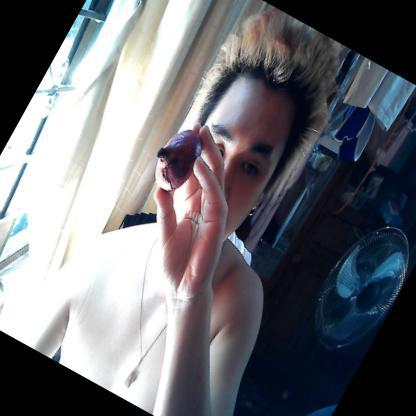onion: (138, 118, 216, 208)
